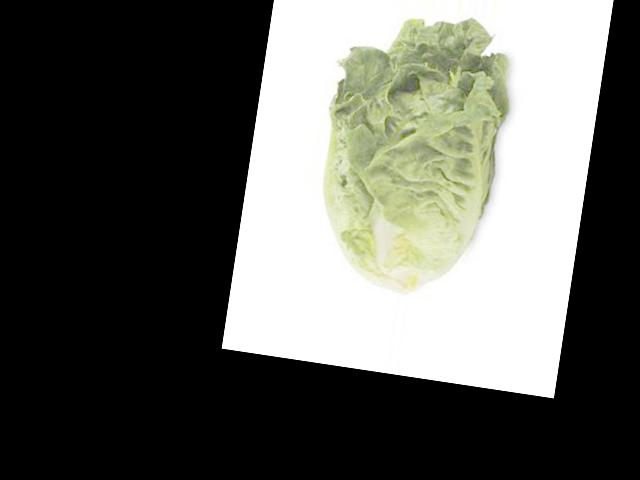lettuce: (397, 46, 517, 161)
